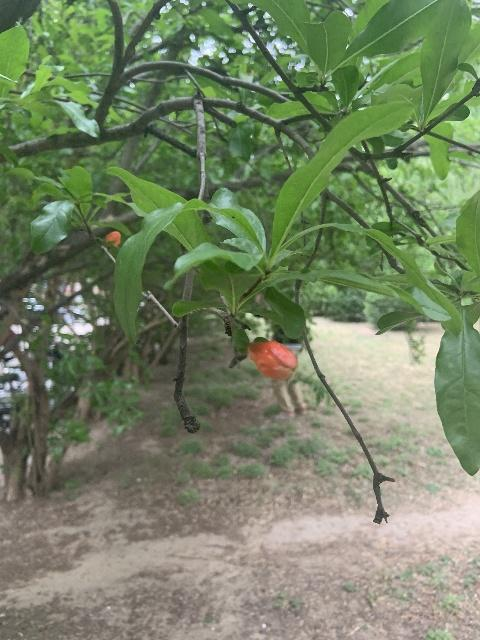bud: (247, 340, 297, 380), (105, 230, 120, 246)
